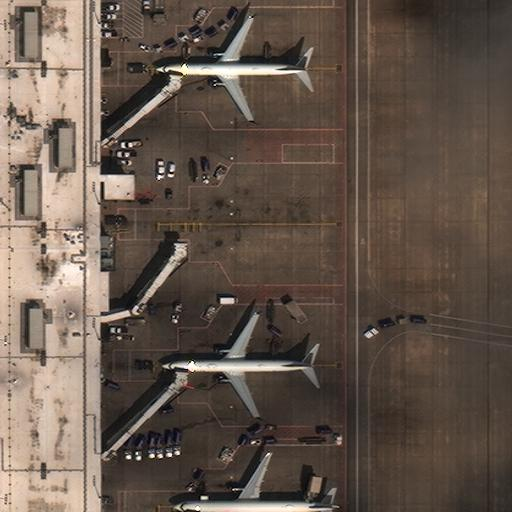Medium Civil Transport: (158, 313, 318, 417), (152, 17, 310, 120), (168, 454, 342, 512)
